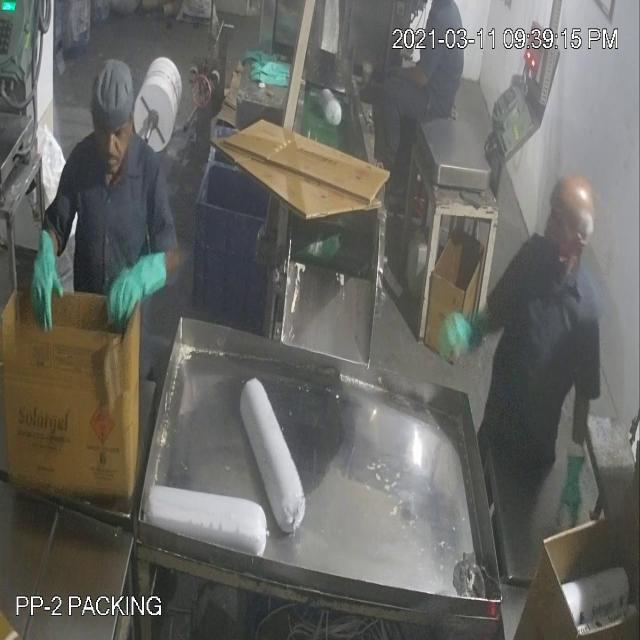gloves: (28, 216, 78, 340), (106, 243, 172, 321)
